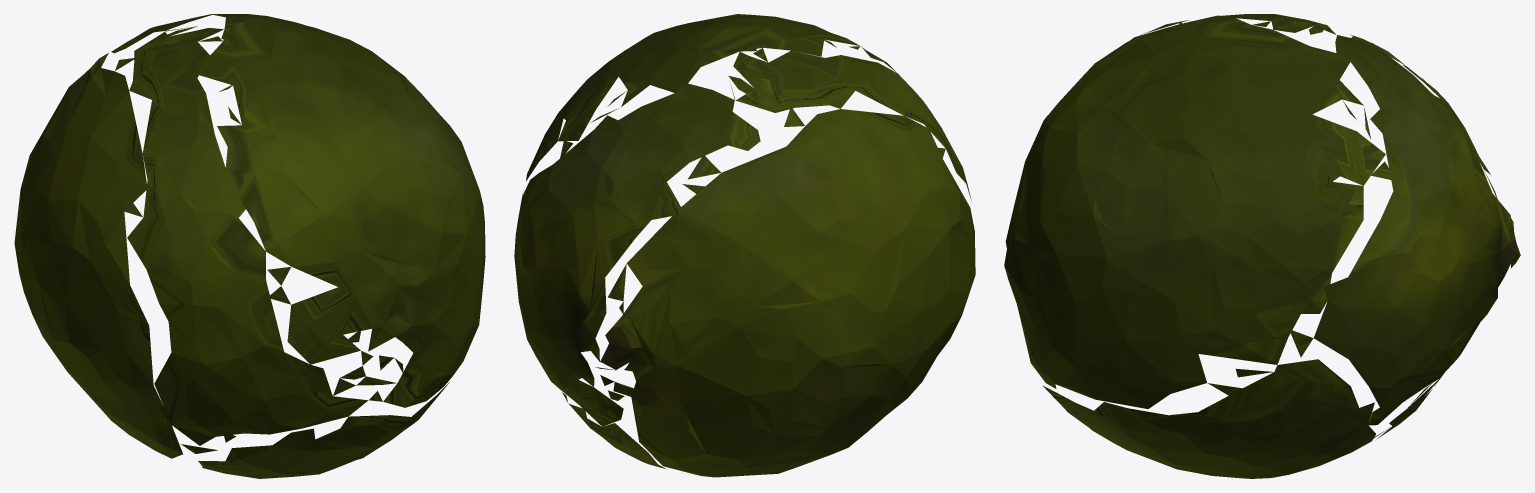
The model's file is food_produce_lime_d01.glb.
3 renders of one model, left to right at view 1: azimuth 30°, elevation 25°; view 2: azimuth 150°, elevation 25°; view 3: azimuth 270°, elevation 25°, orthographic.
Visible parts, largest first — view 1: geometry_0; view 2: geometry_0; view 3: geometry_0.
Part boxes in pixels (x1,y1,x2,y2): geometry_0: [14, 14, 485, 478]; geometry_0: [514, 14, 975, 477]; geometry_0: [1004, 14, 1520, 478].
Size of the model in its own units: 0.3657 by 0.376 by 0.42.
1 material, 1 textured.
